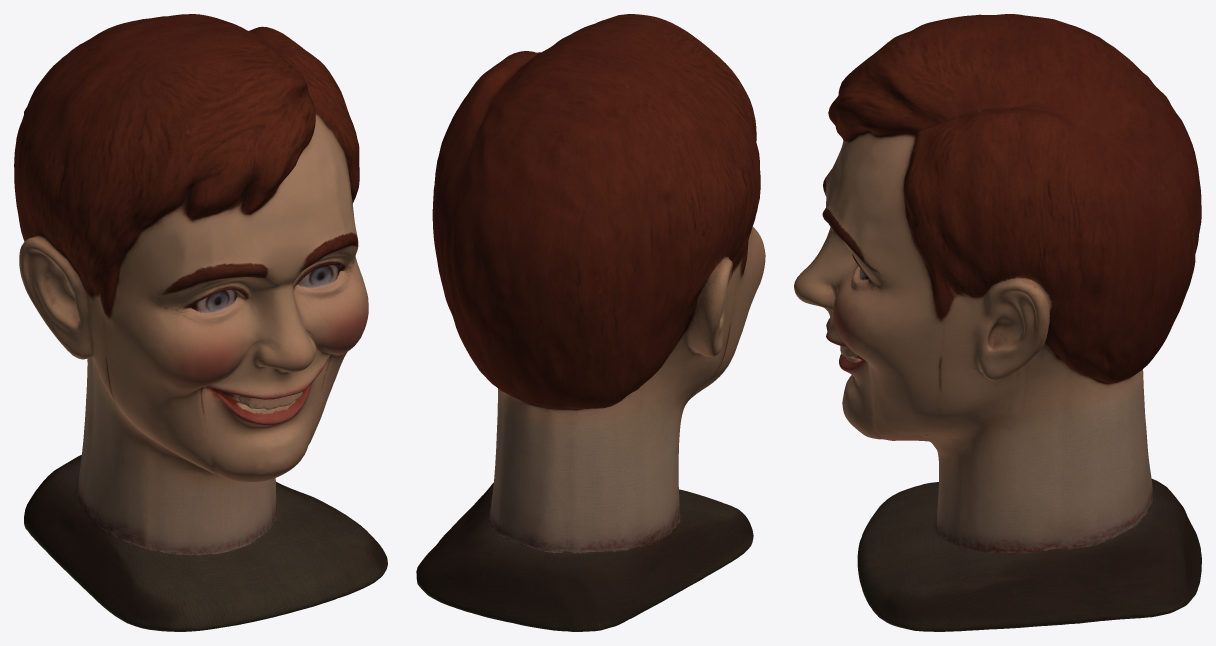
Rendered from entalhado__s2026.glb.
3 views of the same model, side by side, from view 1: azimuth 30°, elevation 25°; view 2: azimuth 150°, elevation 25°; view 3: azimuth 270°, elevation 25° (orthographic). The views are drawn at different scales.
Size of the model in its own units: 0.5951 by 1 by 0.6967.
Materials: 1 (1 with a texture image).
